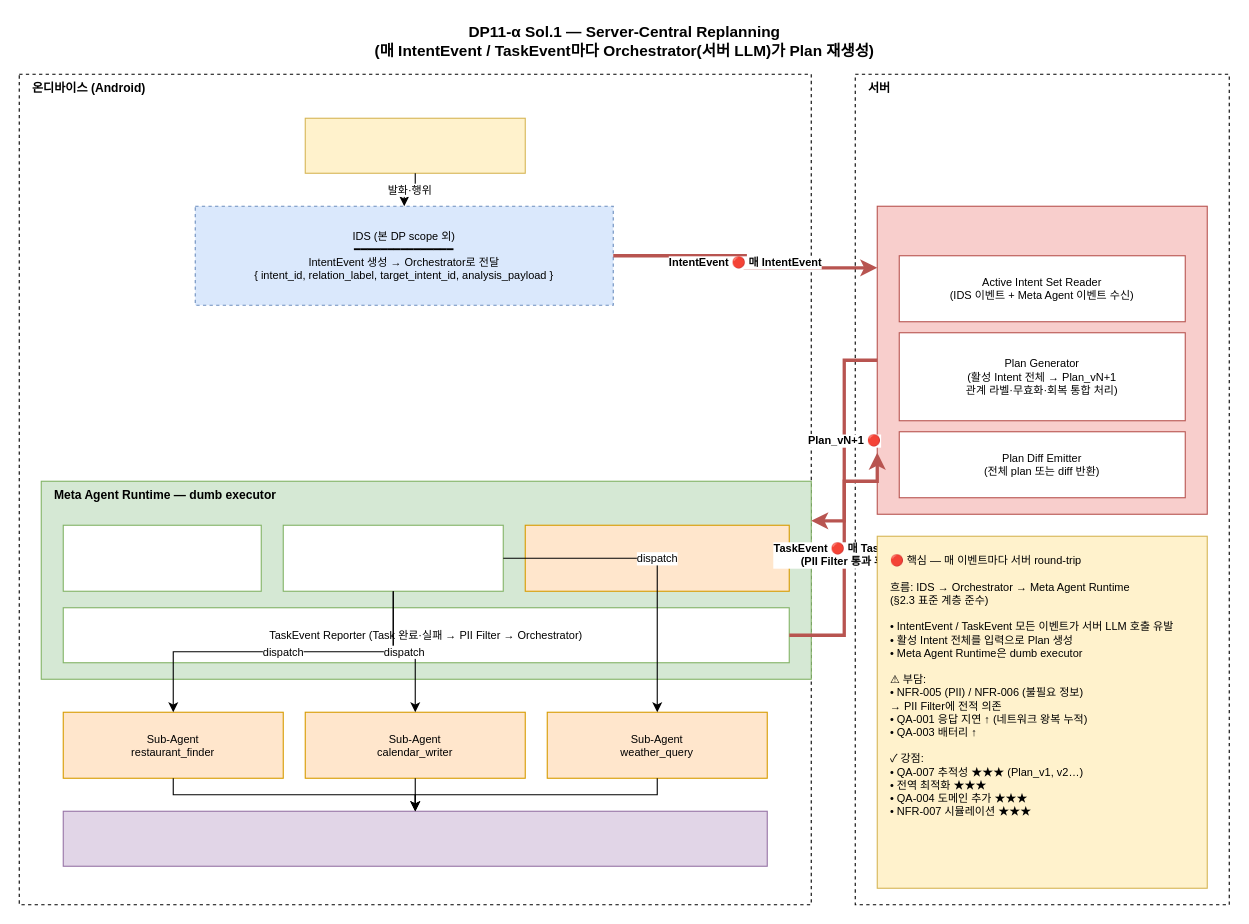
Image size: 1249x924. Some labels were removed from this diagram. The shapes that lost their labels are listed below. From the top down, each one's box as (x1, y1, x2, y2) in pixels, then its label:
(304, 117, 525, 173): User (발화·행위)
(876, 205, 1207, 514): Orchestrator (Server LLM) ━━━ Replanner ━━━
(62, 524, 261, 591): Plan Cache (Plan_vN 영속)
(282, 524, 503, 591): Plan Executor (dispatch·cancel·retry)
(524, 524, 789, 591): PII Filter (NFR-005 PII / NFR-006 불필요 정보 차단)
(62, 810, 767, 866): Local Tools / 외부 서비스 API / DPA / A2A Transport
